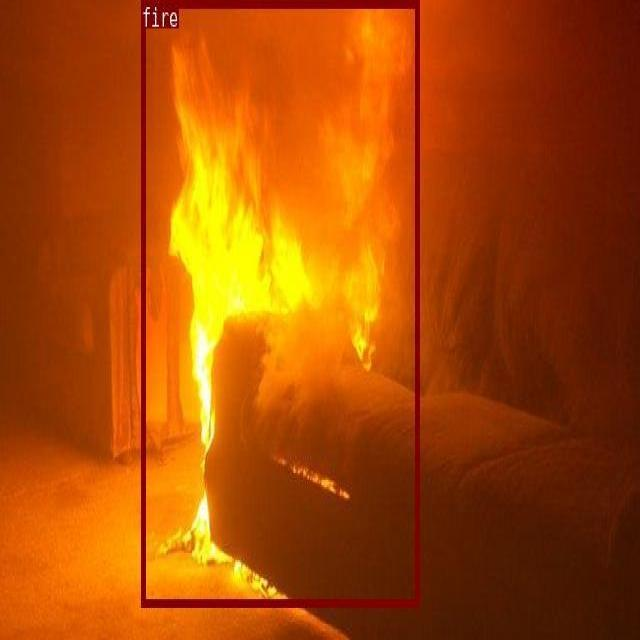fire: (141, 0, 419, 606)
